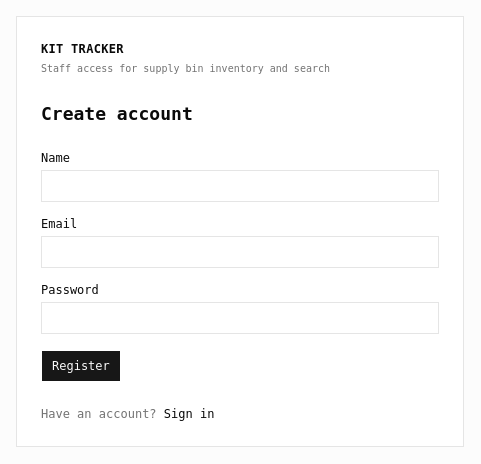
it: Register › submit button is disabled while request is in-flight
Type "Test User" into the field labelled "Name" at x=240, y=186, box [41, 170, 439, 202]
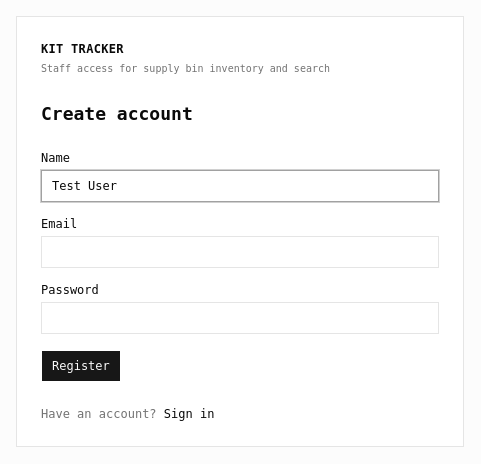
Type "test@example.com" into the field labelled "Email" at x=240, y=252, box [41, 236, 439, 268]
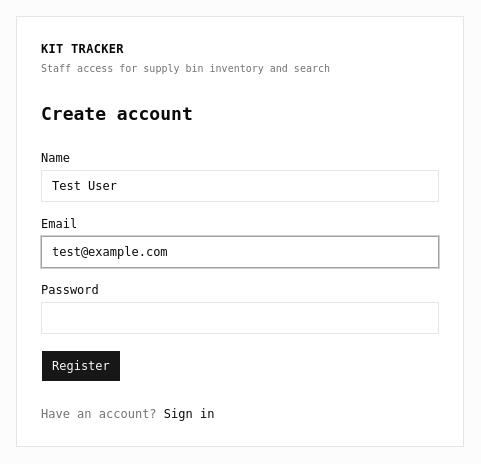
Type "password123" into the password field labelled "Password" at x=240, y=318, box [41, 302, 439, 334]
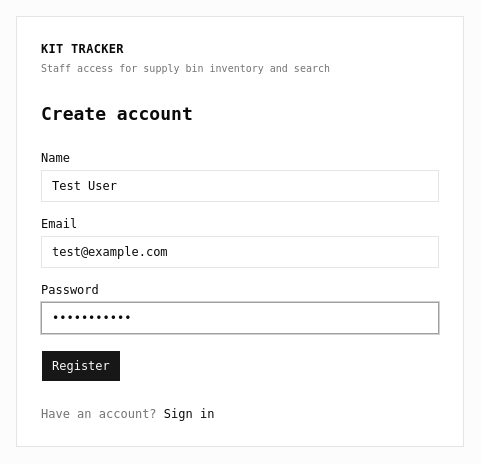
Click the button "Register" at x=81, y=366, box [41, 350, 121, 382]
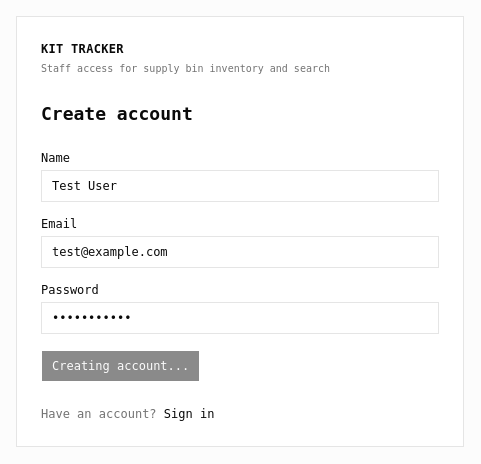
Expected: the button "Creating account..." is disabled, [41, 350, 200, 382]
